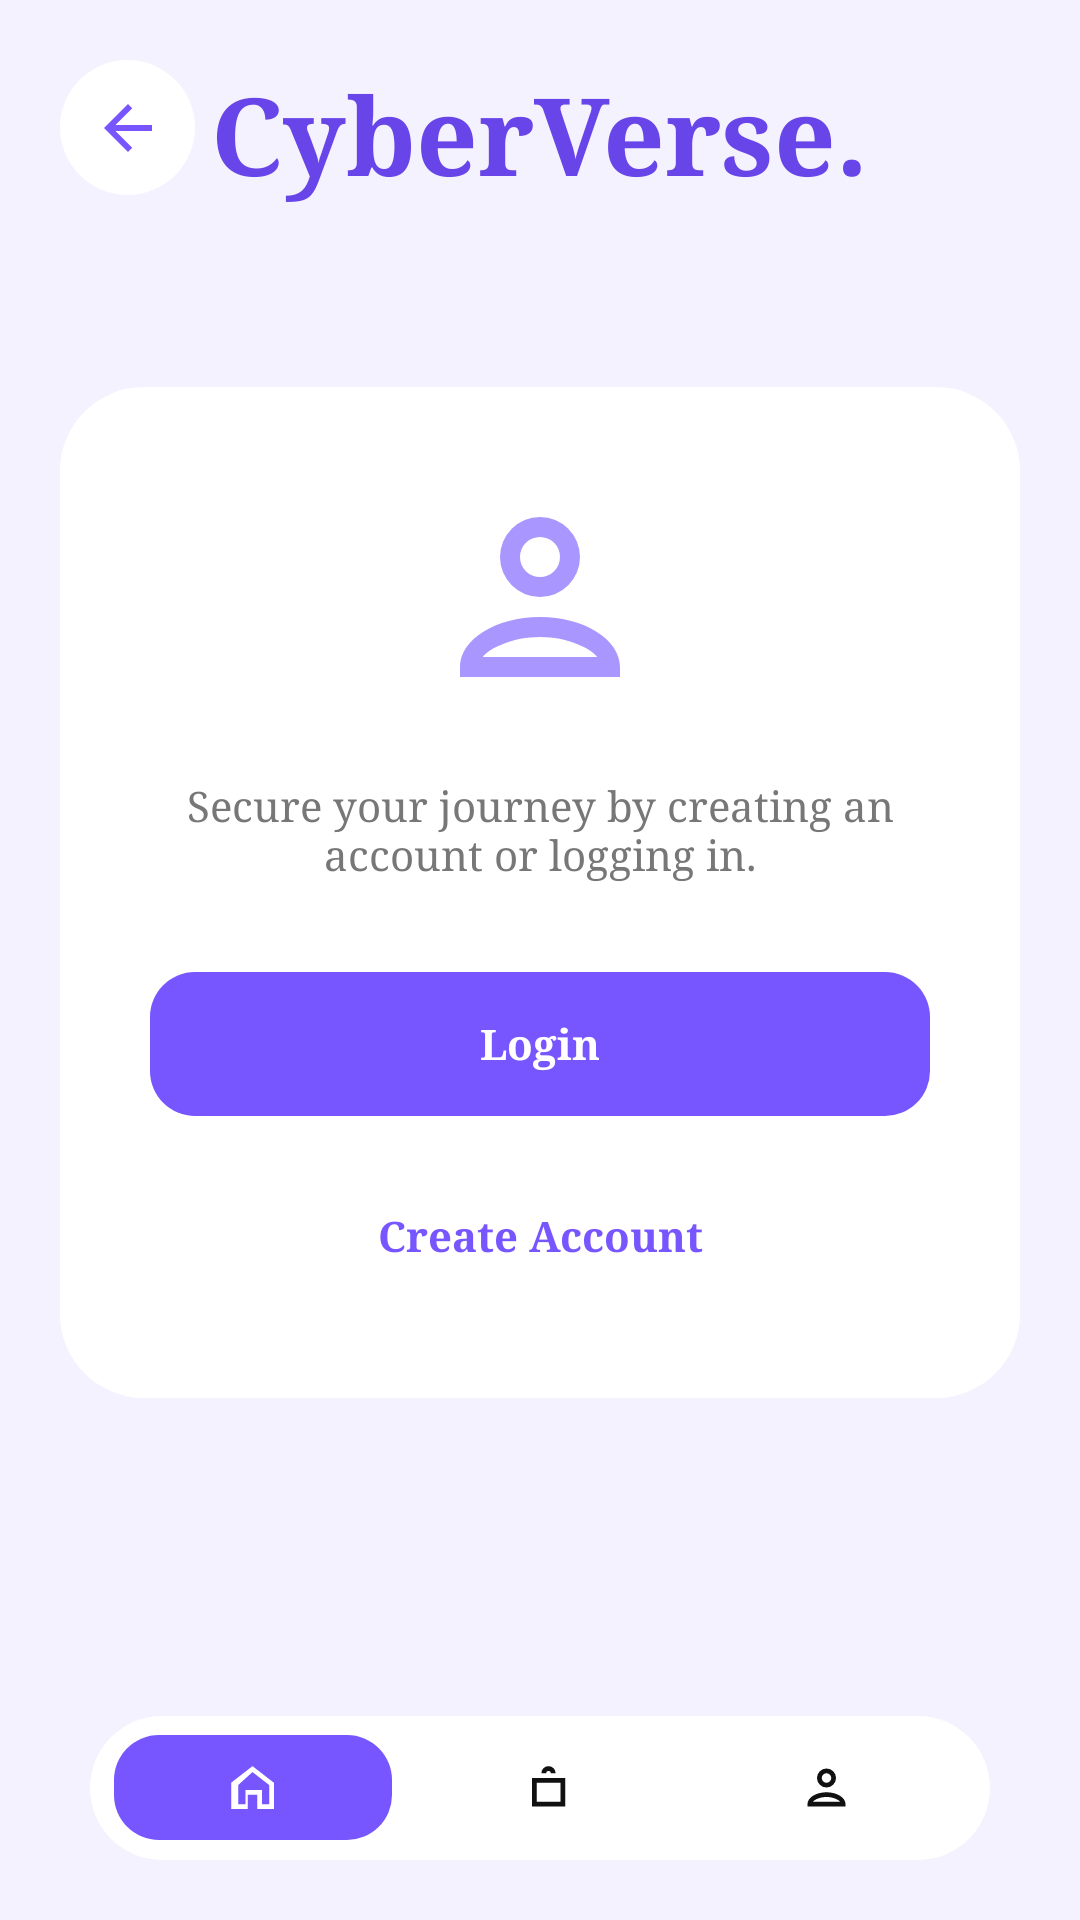

Where to tap for icons on this 1080*1920 app screen, as (x=x, y=y):
Back: (x=127, y=127)
Home: (x=252, y=1787)
Profile: (x=540, y=597), (x=826, y=1787)
Shop: (x=549, y=1786)
